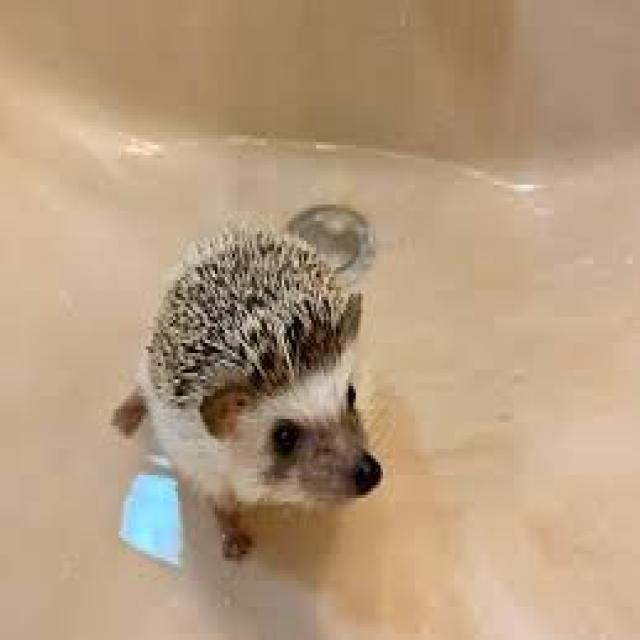Hedgehog: (115, 187, 401, 563)
